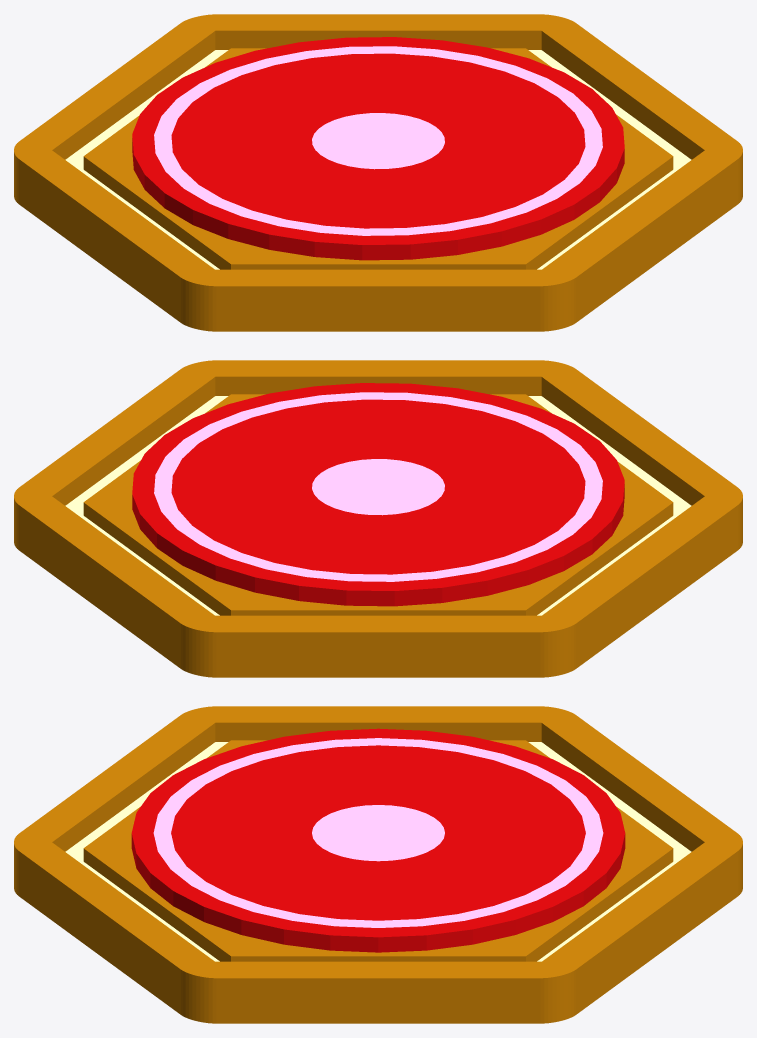
The model's file is Dir.fbx.
3 views of the same model, one above another, from view 1: azimuth 30°, elevation 25°; view 2: azimuth 150°, elevation 25°; view 3: azimuth 270°, elevation 25° (orthographic).
Parts seen in each view (by area): view 1: Цилиндр, Цилиндр.001; view 2: Цилиндр, Цилиндр.001; view 3: Цилиндр, Цилиндр.001.
Part boxes in pixels (x1=…): Цилиндр: x1=14, y1=14, x2=742, y2=331; Цилиндр.001: x1=132, y1=37, x2=624, y2=260; Цилиндр: x1=14, y1=360, x2=742, y2=677; Цилиндр.001: x1=132, y1=383, x2=624, y2=606; Цилиндр: x1=14, y1=706, x2=742, y2=1023; Цилиндр.001: x1=131, y1=728, x2=625, y2=952.
Size of the model in its own units: 448 by 41.93 by 507.
